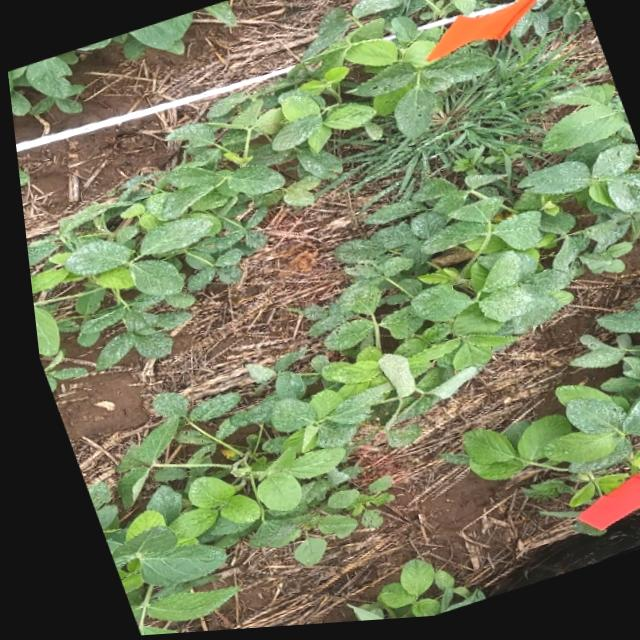grassy_weed: (330, 51, 577, 212)
soy_plant: (77, 92, 640, 636), (22, 21, 489, 365), (435, 305, 640, 515), (6, 13, 192, 114), (338, 562, 471, 625), (351, 0, 525, 27), (515, 0, 588, 42), (203, 2, 233, 27)
